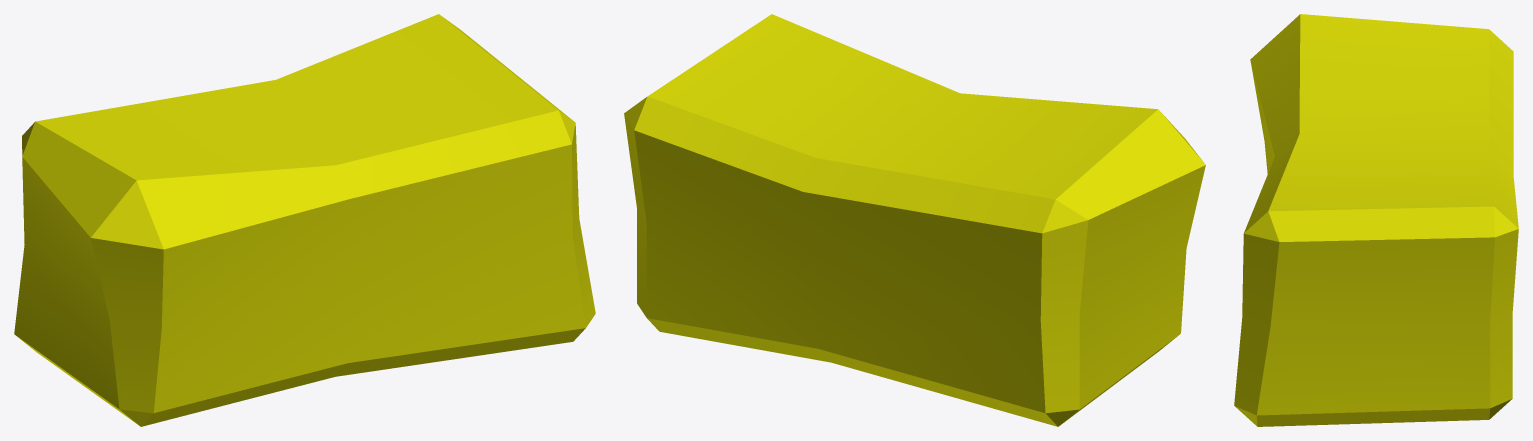
Rendered from SM_Hay_Bale.fbx.
The picture shows the model from 3 angles, left to right: view 1: azimuth 30°, elevation 25°; view 2: azimuth 150°, elevation 25°; view 3: azimuth 270°, elevation 25°; orthographic projection. The views are drawn at different scales.
Parts seen in each view (by area): view 1: SM_Hay_Bale; view 2: SM_Hay_Bale; view 3: SM_Hay_Bale.
Part boxes in pixels (<box>): SM_Hay_Bale: <box>14,14,595,426</box>; SM_Hay_Bale: <box>624,14,1205,426</box>; SM_Hay_Bale: <box>1234,14,1518,426</box>.
Bounding box in the file's own units: 175 × 85.73 × 97.13.
